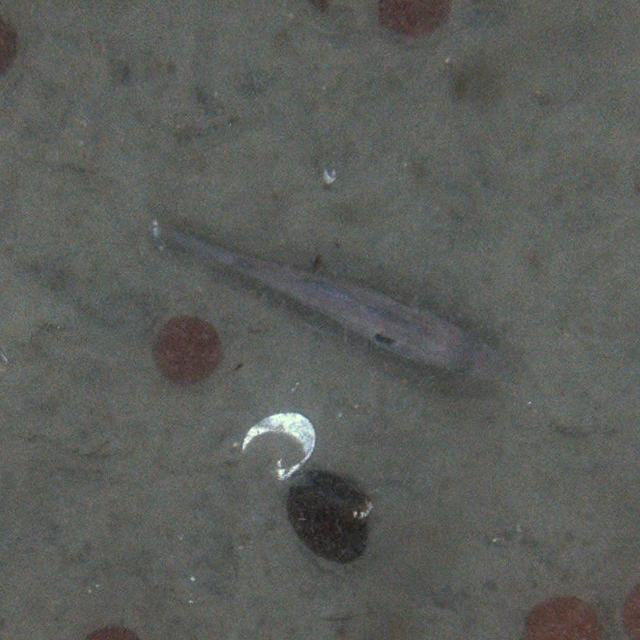roundfish: (158, 218, 502, 392)
